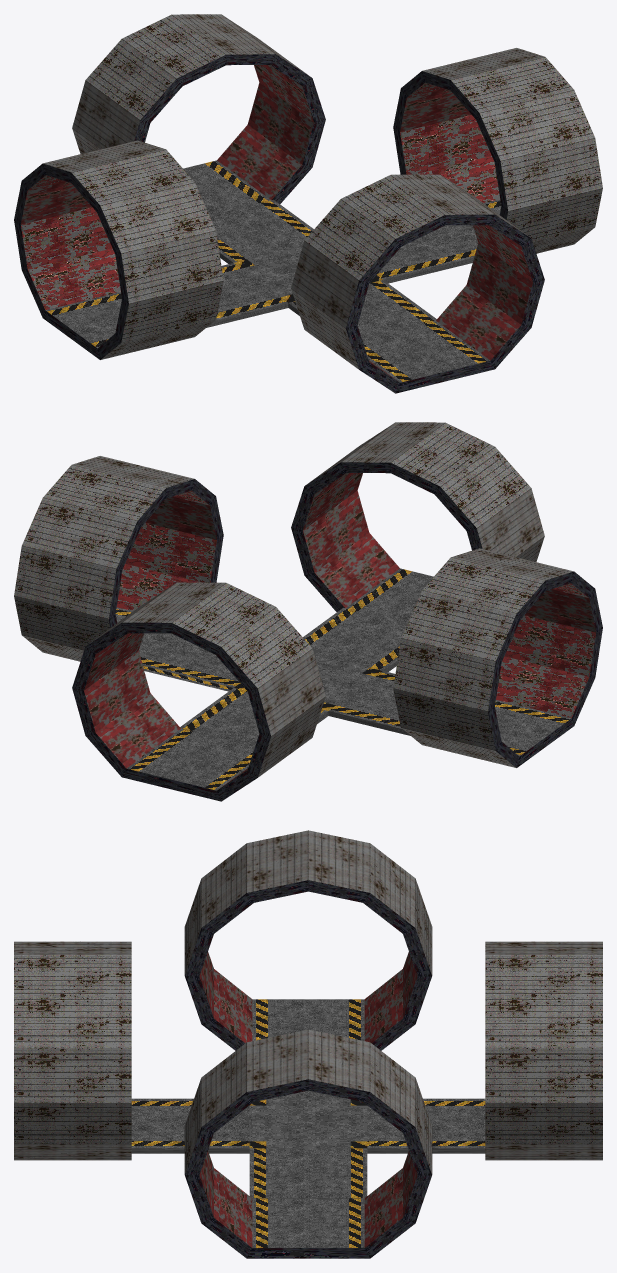
File: Red_Hazard_Cylinder_Hallway_TRI-col.glb
3 renders of one model, top to bottom at view 1: azimuth 30°, elevation 25°; view 2: azimuth 150°, elevation 25°; view 3: azimuth 270°, elevation 25°, orthographic. The views are drawn at different scales.
Parts seen in each view (by area): view 1: Red_Hazard_Cylinder_Hallway_TRI-col; view 2: Red_Hazard_Cylinder_Hallway_TRI-col; view 3: Red_Hazard_Cylinder_Hallway_TRI-col.
Boxes of the visible parts, x1,y1,x2,y2 form: Red_Hazard_Cylinder_Hallway_TRI-col: (14, 14, 602, 393); Red_Hazard_Cylinder_Hallway_TRI-col: (14, 422, 602, 801); Red_Hazard_Cylinder_Hallway_TRI-col: (14, 830, 602, 1258).
Bounding box in the file's own units: 10 × 3.36 × 10.
Materials: 1 (1 with a texture image).
